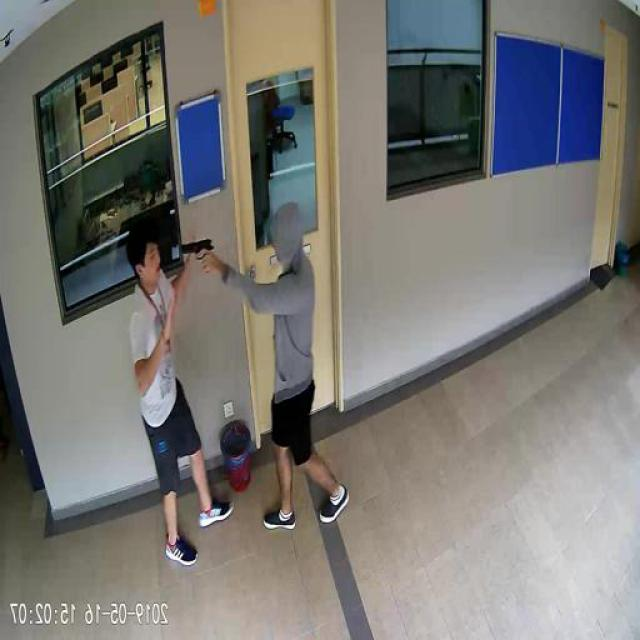Gun: (182, 235, 214, 270)
